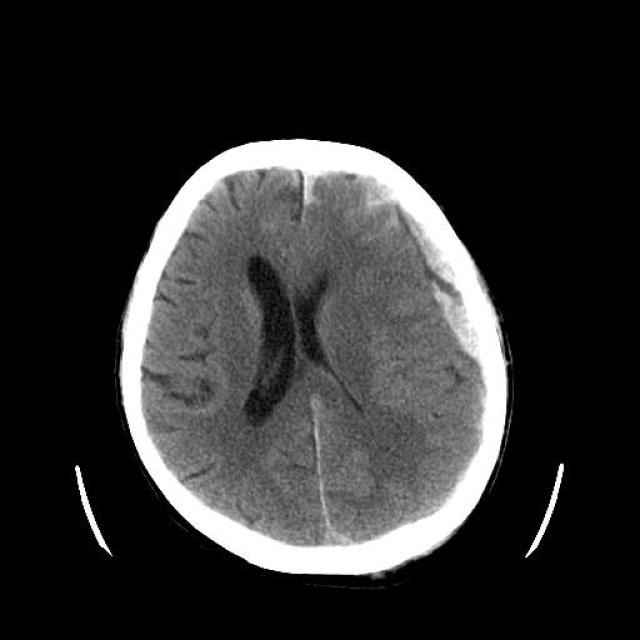Subdural: (360, 168, 516, 372), (268, 161, 352, 229)
